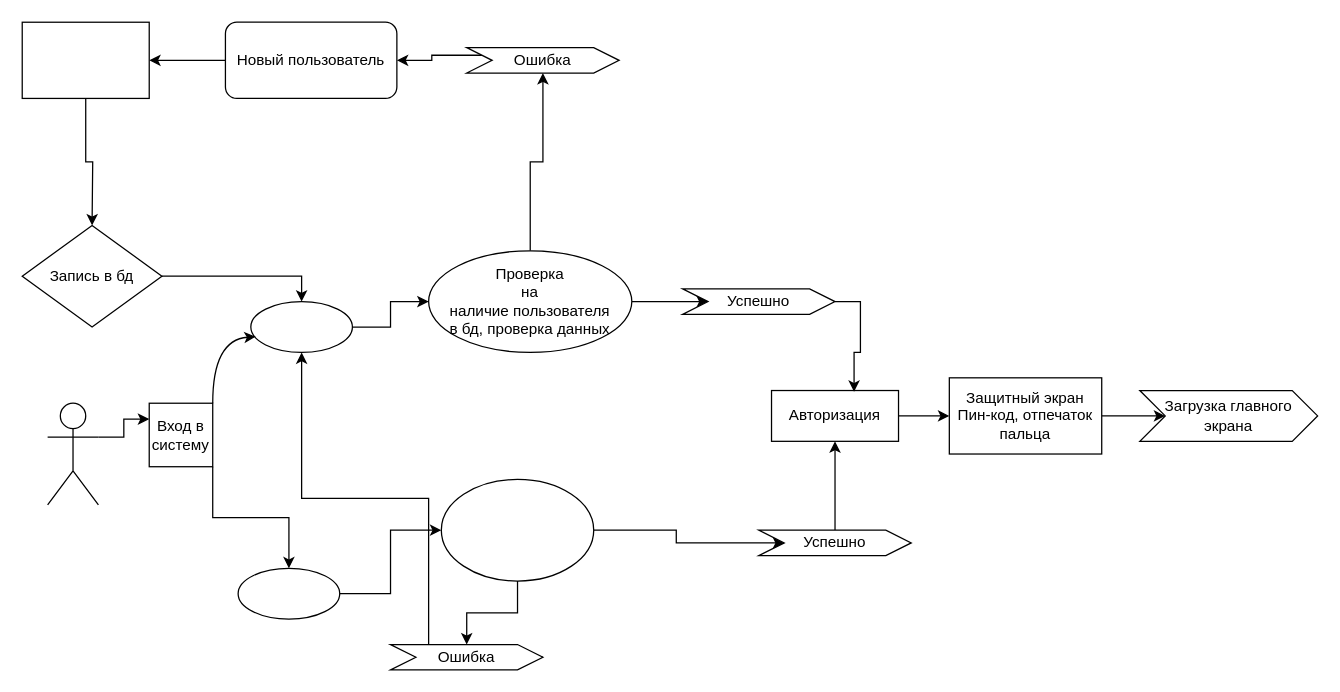
Image size: 1340x692. Some labels were removed from this diagram. The shapes that lost their labels are listed below. From the top down, each one's box as (x1, y1, x2, y2) in pixels, then its label:
(21, 21, 149, 98): Регистрация/ Ввод данных
(250, 300, 352, 352): Запрос на сервер
(46, 402, 98, 505): Пользователь
(440, 478, 594, 581): Проверка на наличие обновление, целостности
(237, 567, 340, 619): Запрос локальный
